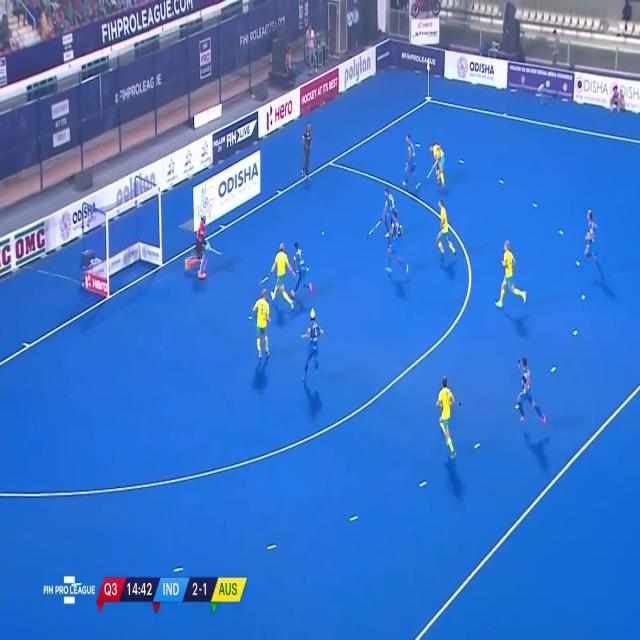ball: (320, 228, 324, 237)
